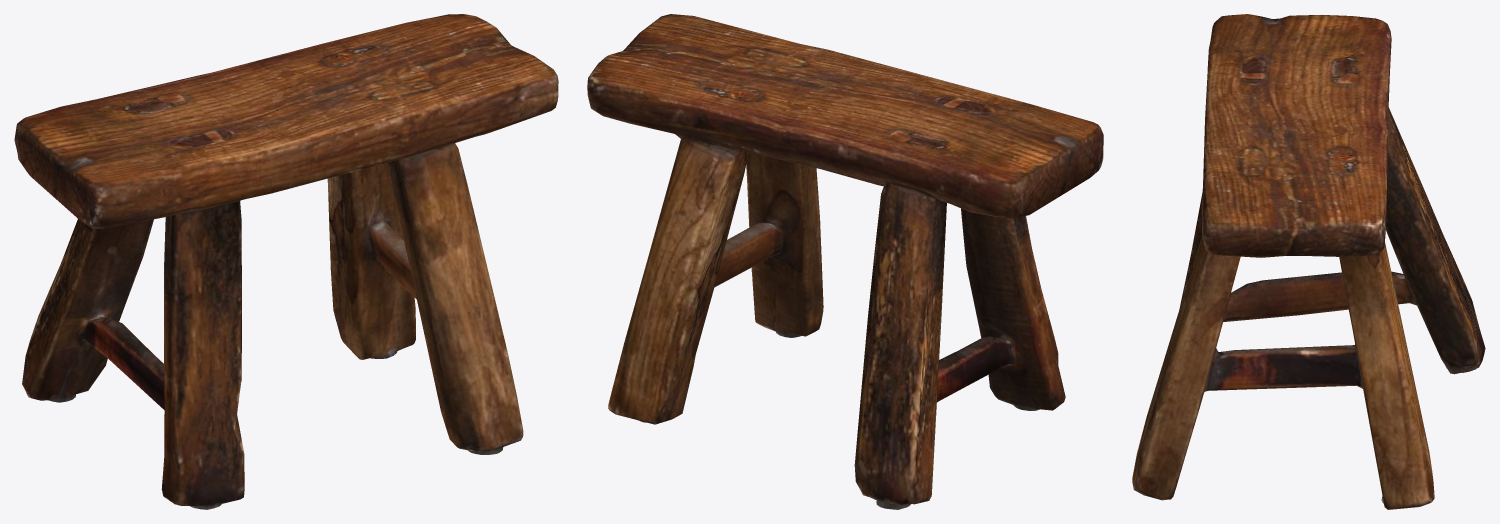
File: wooden_stool_02.glb
3 renders of one model, left to right at view 1: azimuth 30°, elevation 25°; view 2: azimuth 150°, elevation 25°; view 3: azimuth 270°, elevation 25°, orthographic. The views are drawn at different scales.
Parts seen in each view (by area): view 1: wooden_stool_02; view 2: wooden_stool_02; view 3: wooden_stool_02.
Part boxes in pixels (x1,y1,x2,y2): wooden_stool_02: [14, 14, 558, 509]; wooden_stool_02: [587, 14, 1103, 509]; wooden_stool_02: [1132, 14, 1485, 509].
Bounding box in the file's own units: 0.2648 × 0.1818 × 0.1831.
Materials: 1 (1 with a texture image).
